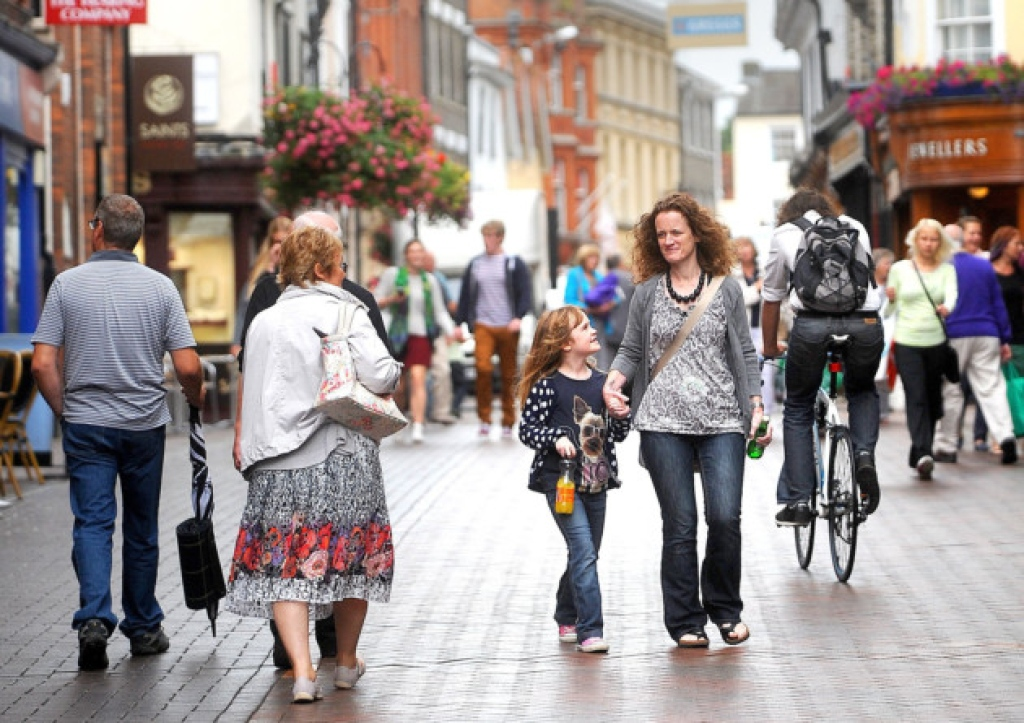person: (22, 180, 223, 675), (221, 217, 422, 708), (601, 189, 777, 657), (750, 187, 912, 531), (503, 300, 633, 656), (873, 202, 977, 492), (446, 214, 537, 439), (949, 206, 1024, 465), (384, 229, 458, 458), (564, 236, 626, 319)
